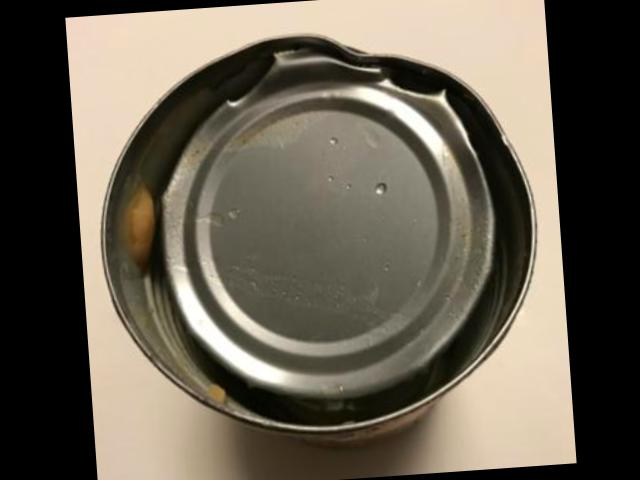metal: (99, 35, 531, 436)
